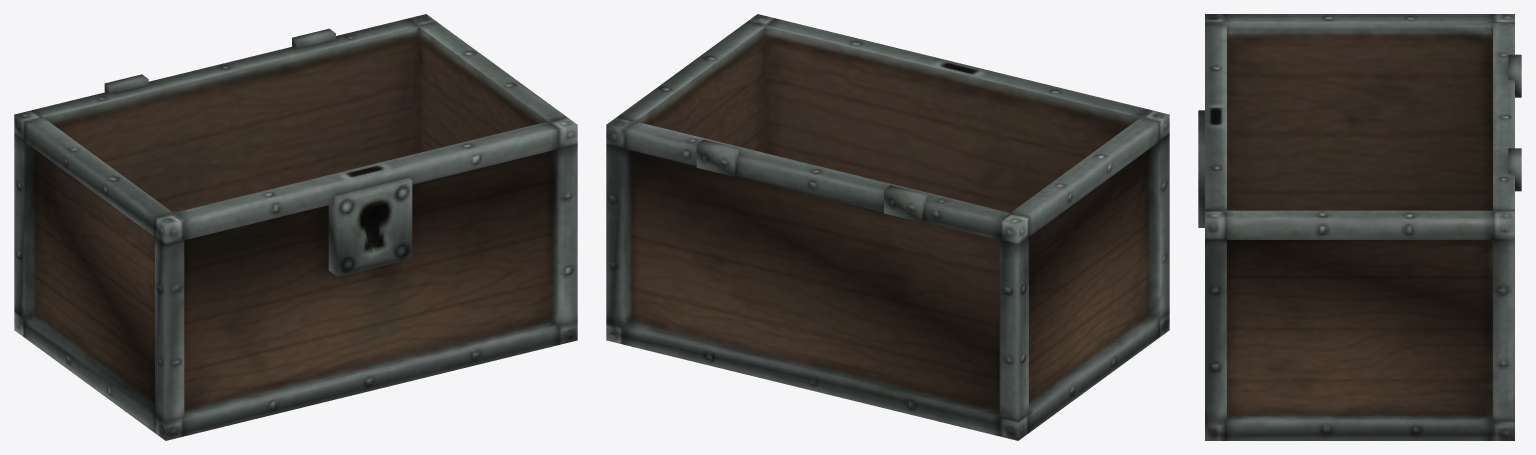
Rendered from Chest.glb.
The picture shows the model from 3 angles, left to right: view 1: azimuth 30°, elevation 25°; view 2: azimuth 150°, elevation 25°; view 3: azimuth 270°, elevation 25°; orthographic projection. The views are drawn at different scales.
Visible parts, largest first — view 1: chest.jpg__; view 2: chest.jpg__; view 3: chest.jpg__.
Part boxes in pixels (<box>): chest.jpg__: <box>14,14,577,440</box>; chest.jpg__: <box>606,14,1169,440</box>; chest.jpg__: <box>1198,14,1521,440</box>.
Bounding box in the file's own units: 8.8 × 4.52 × 5.84.
Materials: 1 (1 with a texture image).
